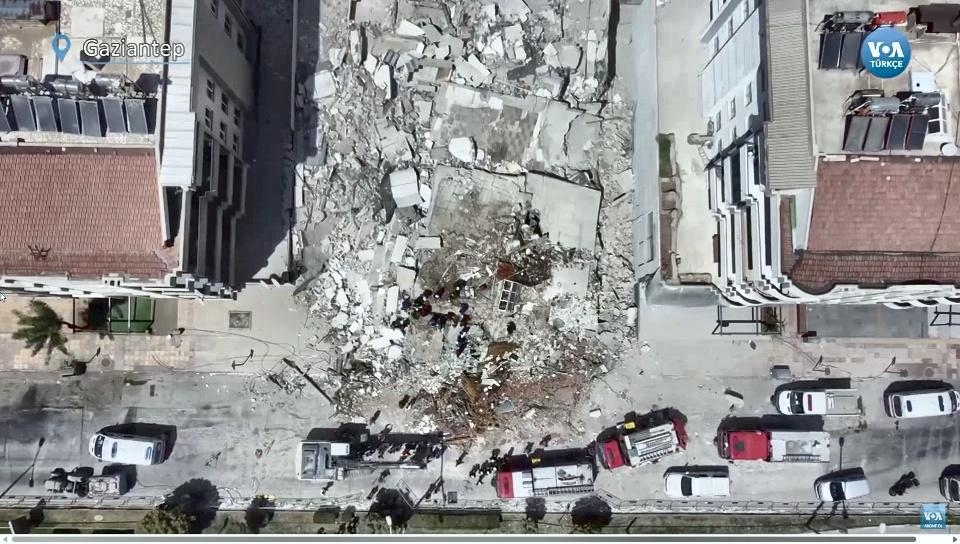kapali: (296, 373, 641, 513)
